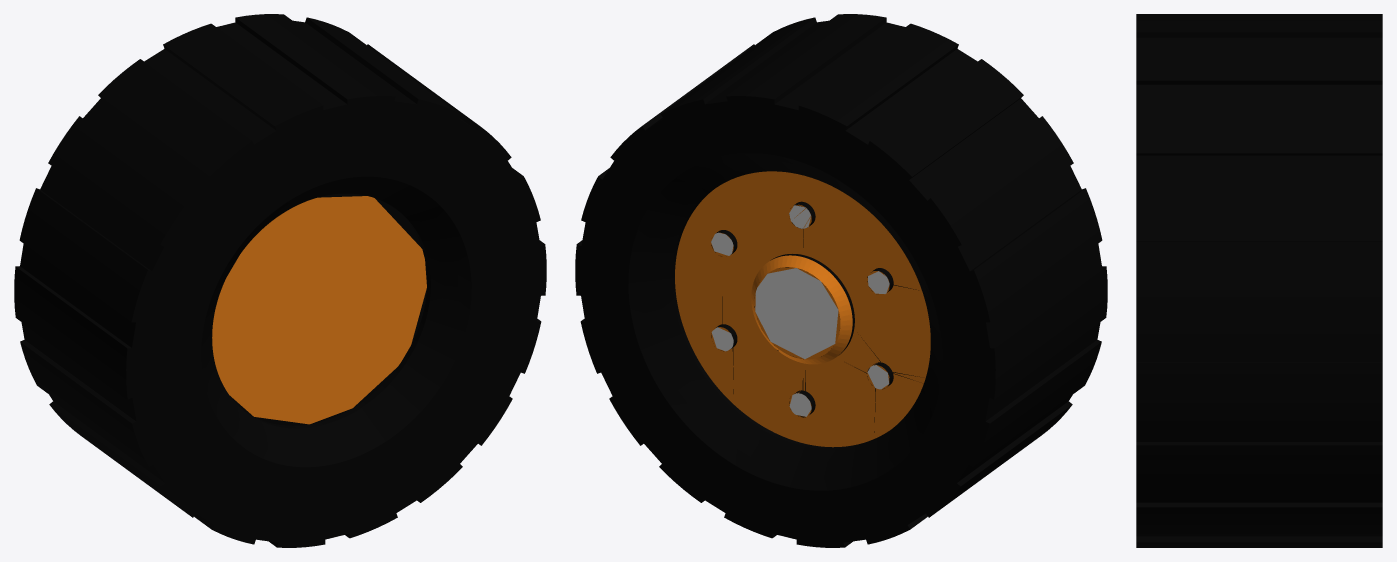
Rendered from swarmfarmv2_wheel_body.dae.
3 views of the same model, side by side, from view 1: azimuth 30°, elevation 25°; view 2: azimuth 150°, elevation 25°; view 3: azimuth 270°, elevation 25° (orthographic). The views are drawn at different scales.
Parts seen in each view (by area): view 1: node0.001; view 2: node0.001; view 3: node0.001.
Boxes of the visible parts, x1,y1,x2,y2 form: node0.001: (14,14,546,547); node0.001: (575,14,1107,547); node0.001: (1136,14,1382,547).
Bounding box in the file's own units: 0.6507 × 0.3 × 0.6499.
